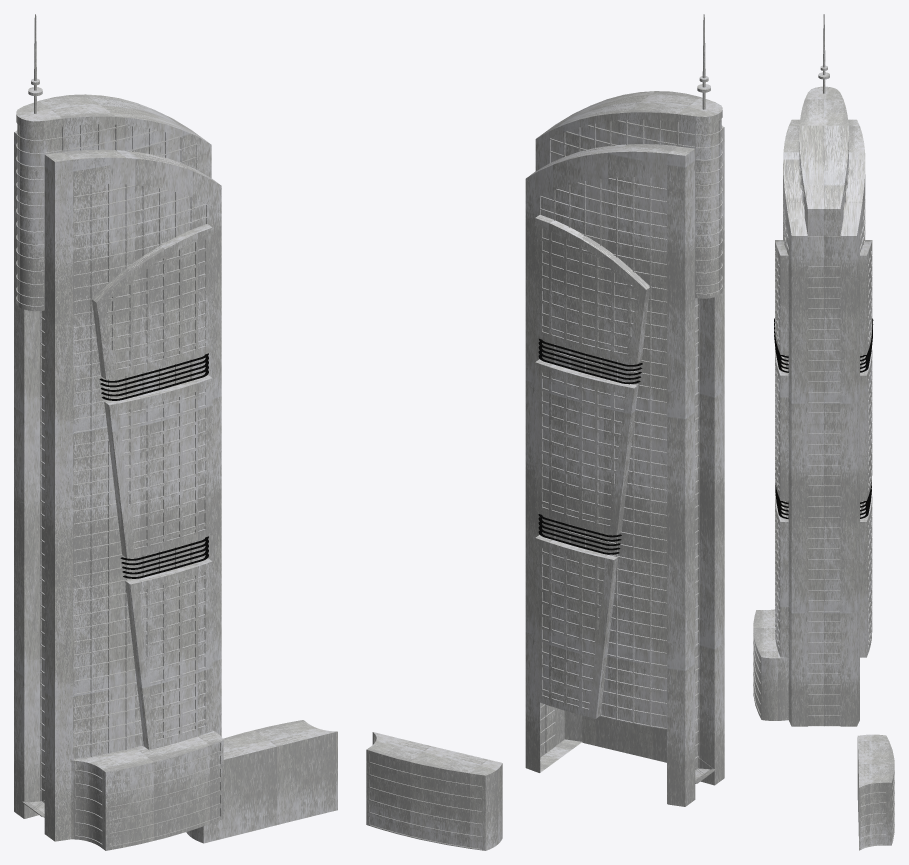
The model's file is Bastion_01.FBX.
3 renders of one model, left to right at view 1: azimuth 30°, elevation 25°; view 2: azimuth 150°, elevation 25°; view 3: azimuth 270°, elevation 25°, orthographic. The views are drawn at different scales.
Visible parts, largest first — view 1: Box02, Arc02, Line01, Box03, Line05; view 2: Box02, Arc03, Box03, Line05, Line01; view 3: Box02, Box03, Arc02, Arc03, Line05, Line01.
Part boxes in pixels (x1,y1,x2,y2): Box02: (14,131,221,841); Arc02: (91,224,212,750); Line01: (71,730,223,850); Box03: (16,94,211,311); Line05: (186,720,337,843); Box02: (525,126,724,806); Arc03: (535,215,649,718); Box03: (535,91,722,298); Line05: (366,732,502,850); Line01: (582,715,666,762); Box02: (783,119,865,726); Box03: (799,86,848,235); Arc02: (775,240,788,657); Arc03: (860,240,872,657); Line05: (857,734,894,850); Line01: (753,609,788,720).
Bounding box in the file's own units: 3218 × 8038 × 1447.
